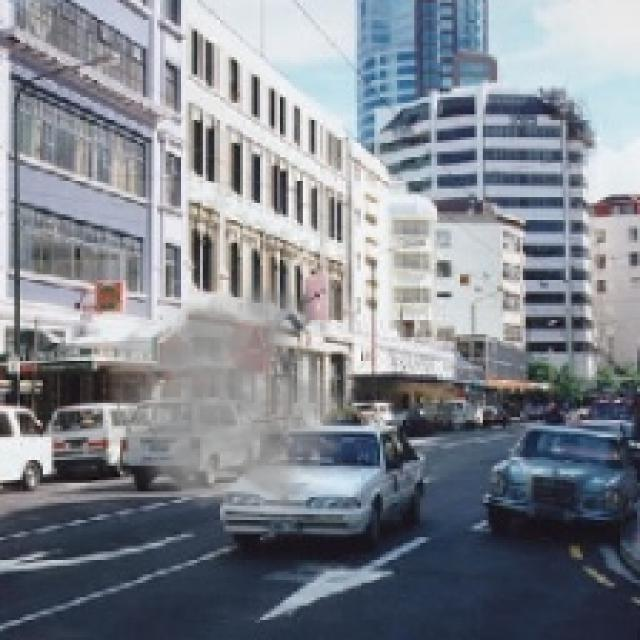smoke: (97, 269, 357, 520)
